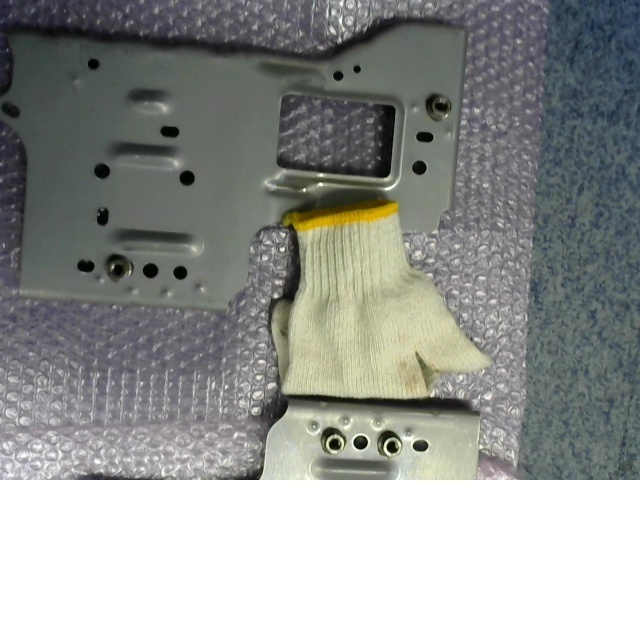dog: (105, 253, 132, 281), (425, 93, 452, 121), (377, 429, 403, 457), (320, 427, 345, 455)
